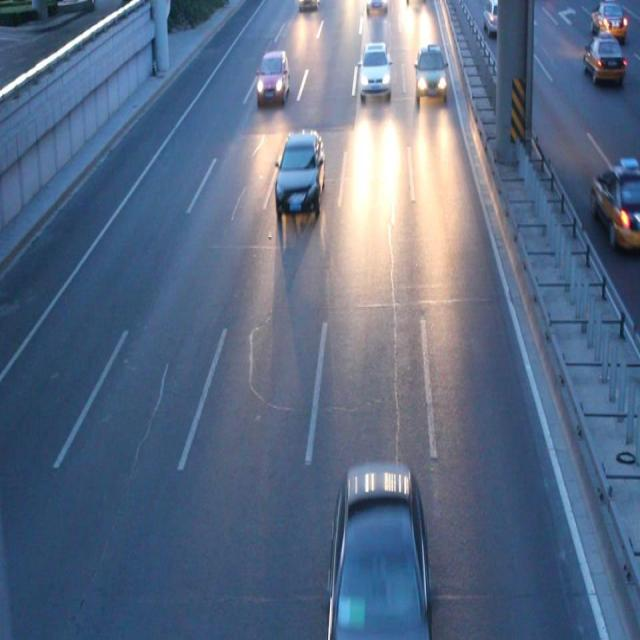car: (331, 466, 430, 640), (274, 132, 324, 209), (590, 167, 640, 244), (582, 36, 624, 80), (256, 52, 289, 102), (359, 43, 390, 93), (416, 46, 446, 96), (589, 1, 625, 37), (483, 1, 512, 37), (365, 1, 387, 14), (297, 1, 320, 10)
